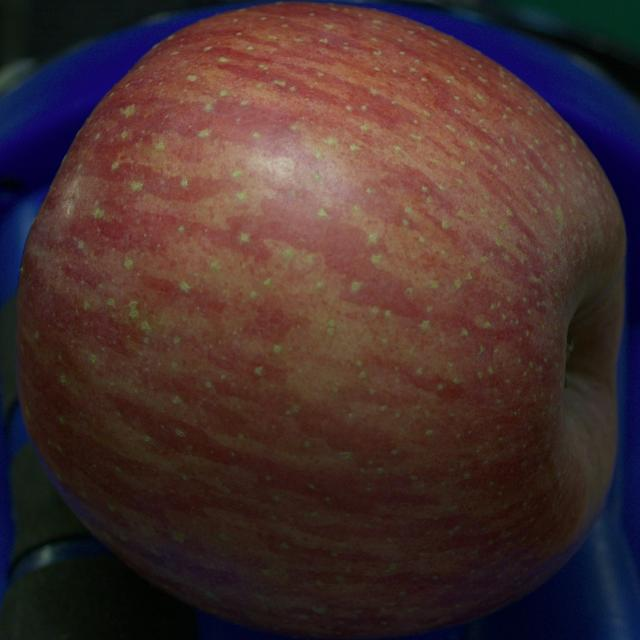apple: (16, 3, 626, 639)
